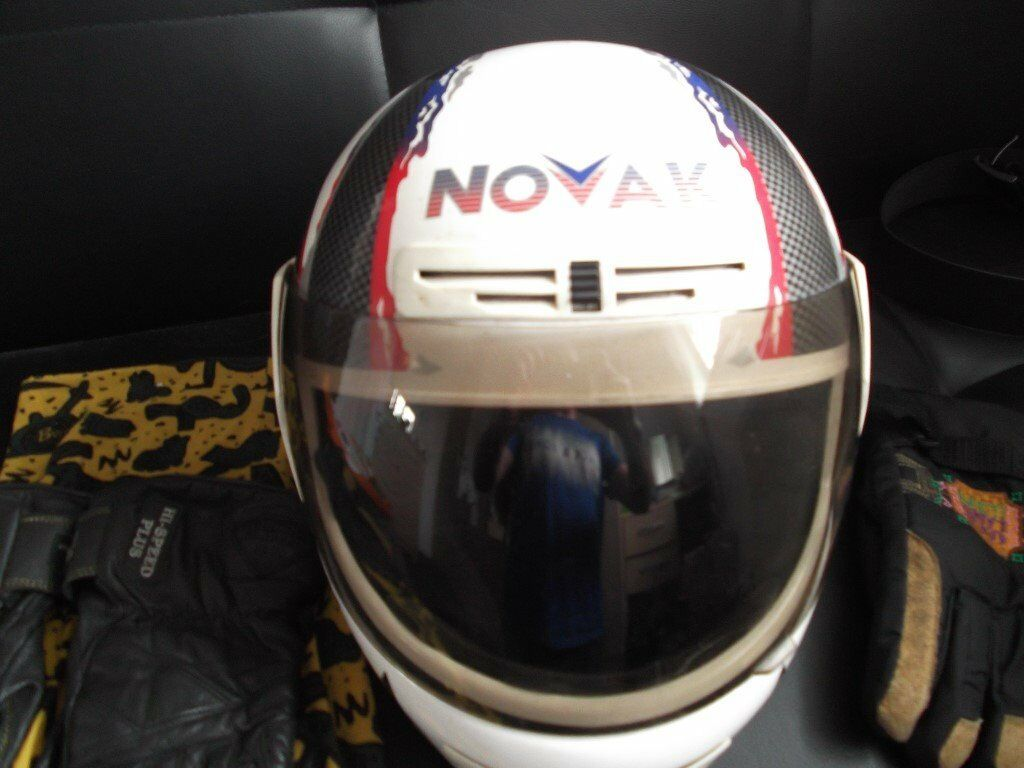with_helmet: (263, 23, 888, 768)
